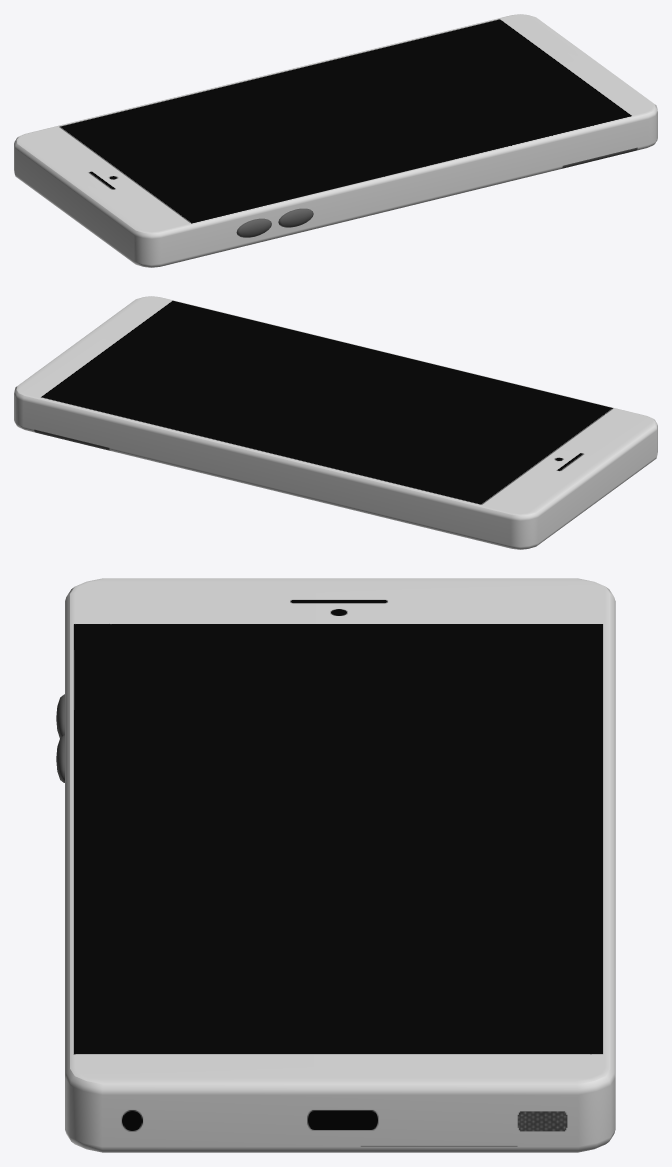
Rendered from phone.obj.
The picture shows the model from 3 angles, top to bottom: view 1: azimuth 30°, elevation 25°; view 2: azimuth 150°, elevation 25°; view 3: azimuth 270°, elevation 25°; orthographic projection. The views are drawn at different scales.
Parts seen in each view (by area): view 1: Phone Phone, Phone VolumeDownRocker, Phone VolumeUpRocker; view 2: Phone Phone; view 3: Phone Phone.
Boxes of the visible parts, bbox=[...] form: Phone Phone: bbox=[14, 14, 657, 267]; Phone VolumeDownRocker: bbox=[278, 208, 313, 227]; Phone VolumeUpRocker: bbox=[236, 218, 271, 237]; Phone Phone: bbox=[14, 296, 657, 549]; Phone Phone: bbox=[65, 578, 615, 1152].
Bounding box in the file's own units: 15.46 × 1 × 7.16.
